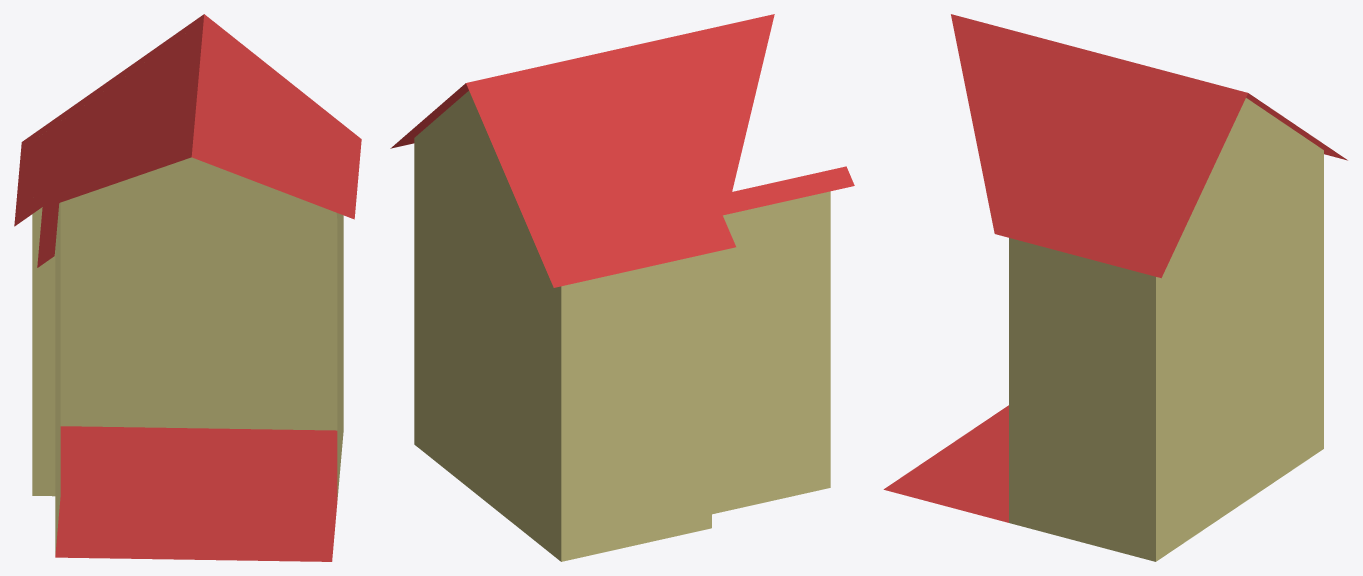
The picture shows the model from 3 angles, left to right: view 1: azimuth 30°, elevation 25°; view 2: azimuth 150°, elevation 25°; view 3: azimuth 270°, elevation 25°; orthographic projection. The views are drawn at different scales.
Bounding box in the file's own units: 12.86 × 12.91 × 12.89.
